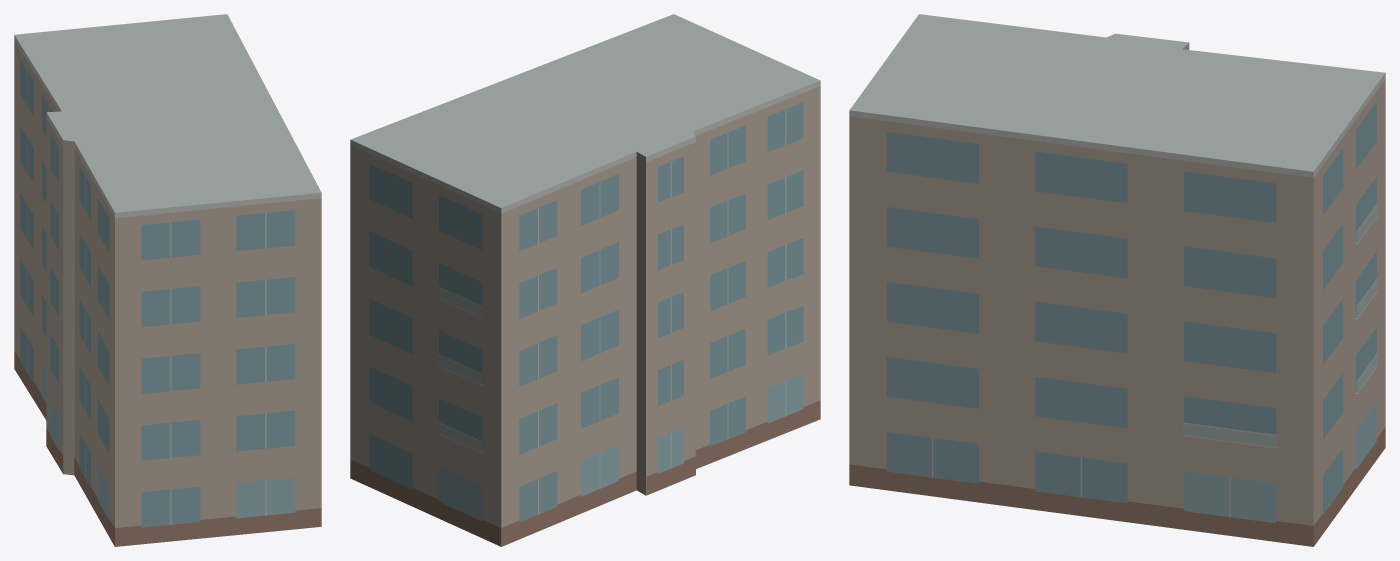
The model's file is survey-upis-33015044.glb.
The picture shows the model from 3 angles, left to right: view 1: azimuth 30°, elevation 25°; view 2: azimuth 150°, elevation 25°; view 3: azimuth 270°, elevation 25°; orthographic projection. The views are drawn at different scales.
Visible parts, largest first — view 1: survey-upis-33015044.tmp; view 2: survey-upis-33015044.tmp; view 3: survey-upis-33015044.tmp.
Boxes of the visible parts, bbox=[...] form: survey-upis-33015044.tmp: bbox=[14, 14, 321, 546]; survey-upis-33015044.tmp: bbox=[350, 14, 820, 546]; survey-upis-33015044.tmp: bbox=[849, 14, 1385, 546].
Size of the model in its own units: 13.78 by 15.25 by 19.77.
